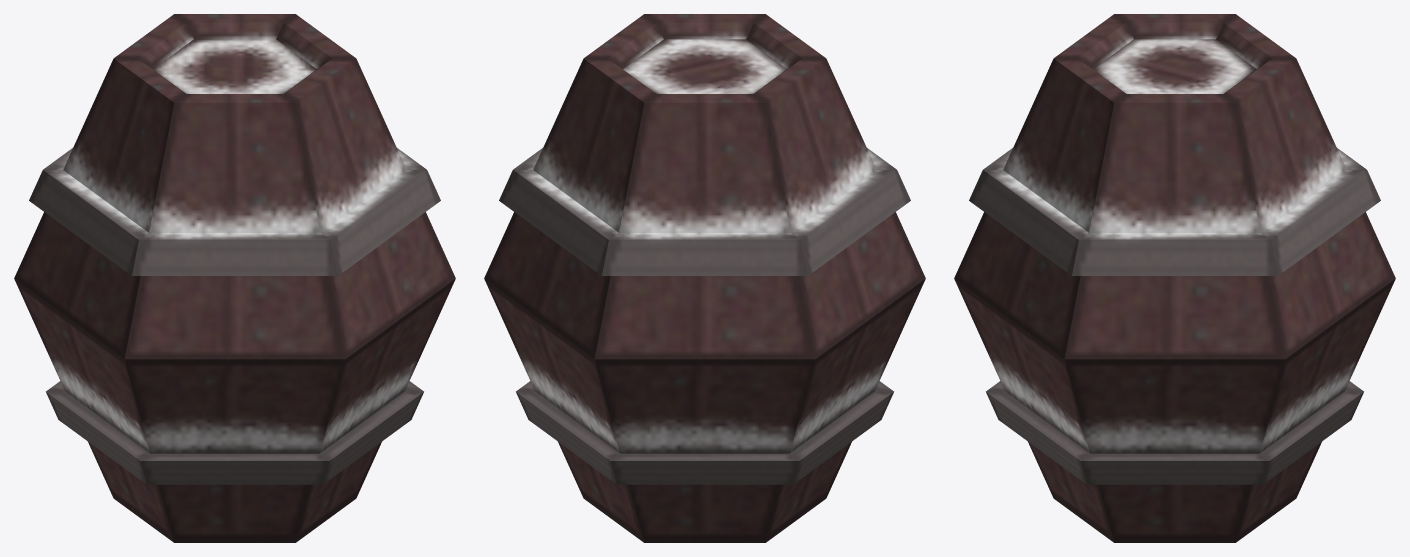
File: winter_container_1.fbx
3 views of the same model, side by side, from view 1: azimuth 30°, elevation 25°; view 2: azimuth 150°, elevation 25°; view 3: azimuth 270°, elevation 25° (orthographic).
Parts seen in each view (by area): view 1: winter_container_1; view 2: winter_container_1; view 3: winter_container_1.
Part boxes in pixels (x1,y1,x2,y2): winter_container_1: (14, 14, 455, 542); winter_container_1: (484, 14, 925, 542); winter_container_1: (954, 14, 1395, 542).
Bounding box in the file's own units: 3.15 × 3.64 × 4.
